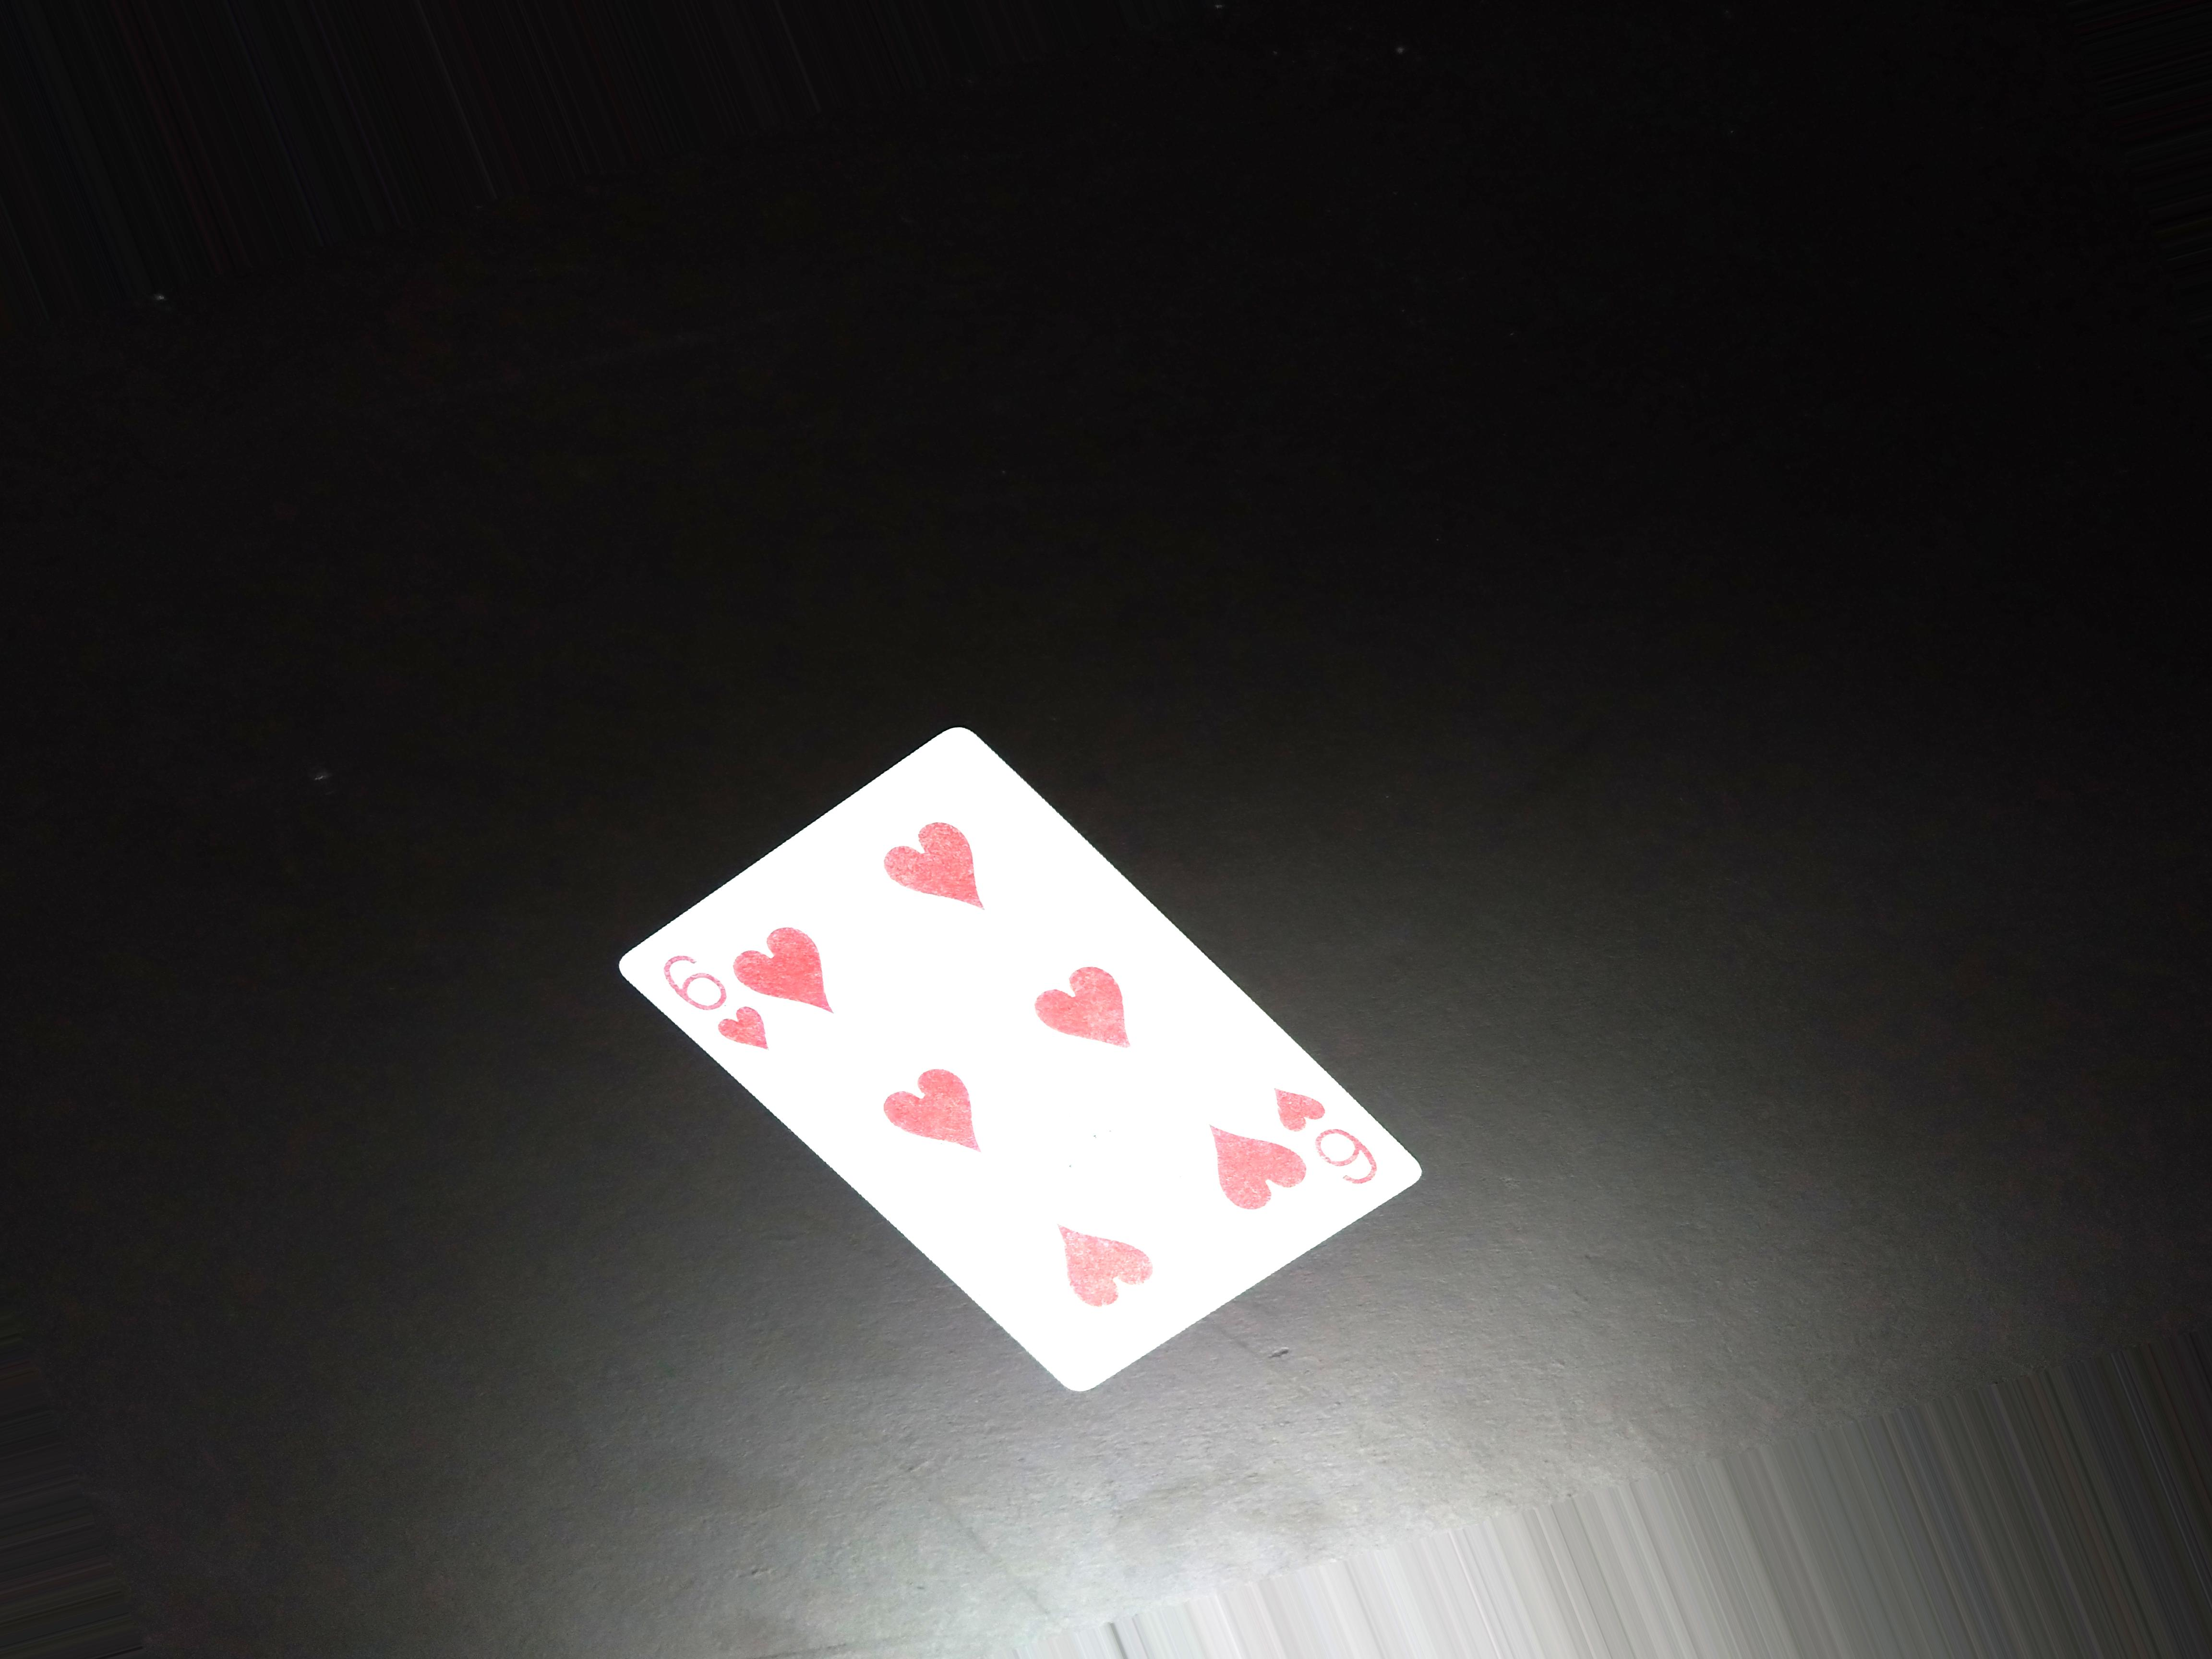6H: (653, 941, 780, 1077)
